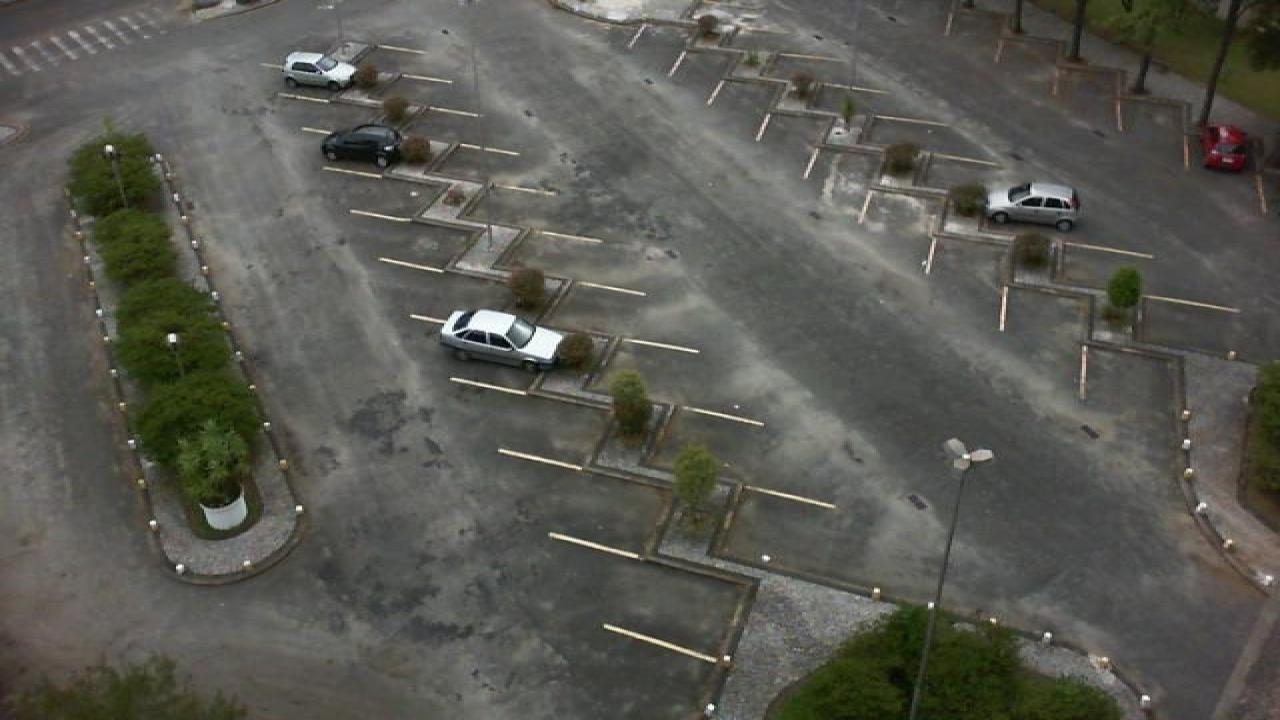Car: (436, 307, 568, 371), (986, 181, 1084, 231), (318, 124, 410, 168), (282, 49, 360, 89), (1196, 123, 1250, 173)
